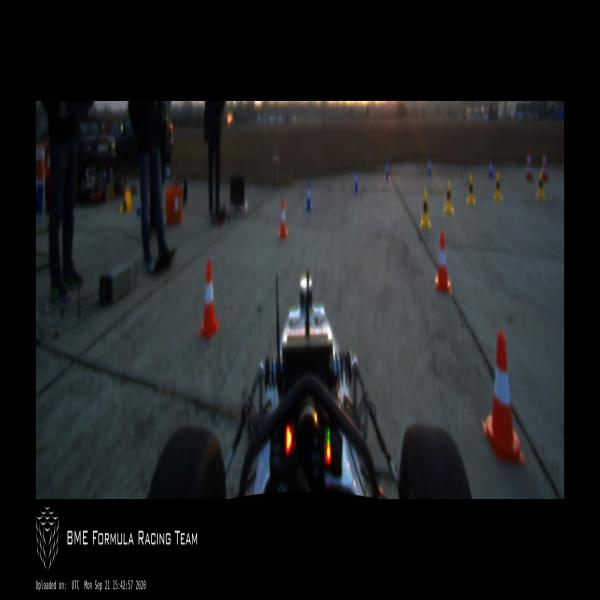blue_cone: (305, 182, 312, 210), (354, 169, 359, 192), (385, 160, 390, 180), (488, 159, 493, 179), (428, 158, 432, 177)
large_orange_cone: (526, 150, 533, 181), (542, 150, 548, 182)
orange_cone: (483, 330, 526, 466), (198, 259, 220, 339), (435, 228, 451, 294), (278, 196, 288, 240)
yellow_cone: (420, 191, 430, 227), (444, 180, 454, 215), (120, 188, 132, 213), (468, 175, 476, 206), (494, 170, 502, 201), (537, 172, 545, 199)
